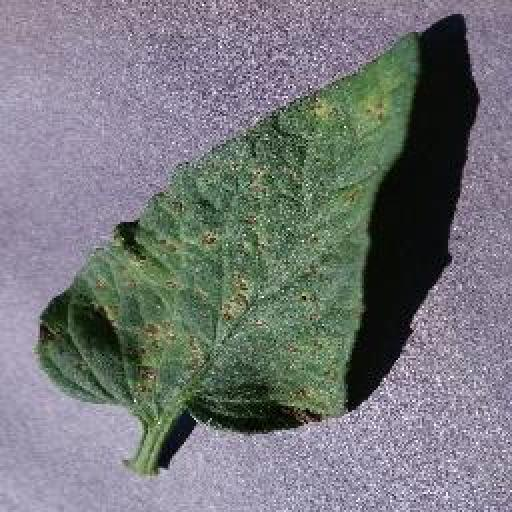Septoria: (34, 26, 419, 434)
